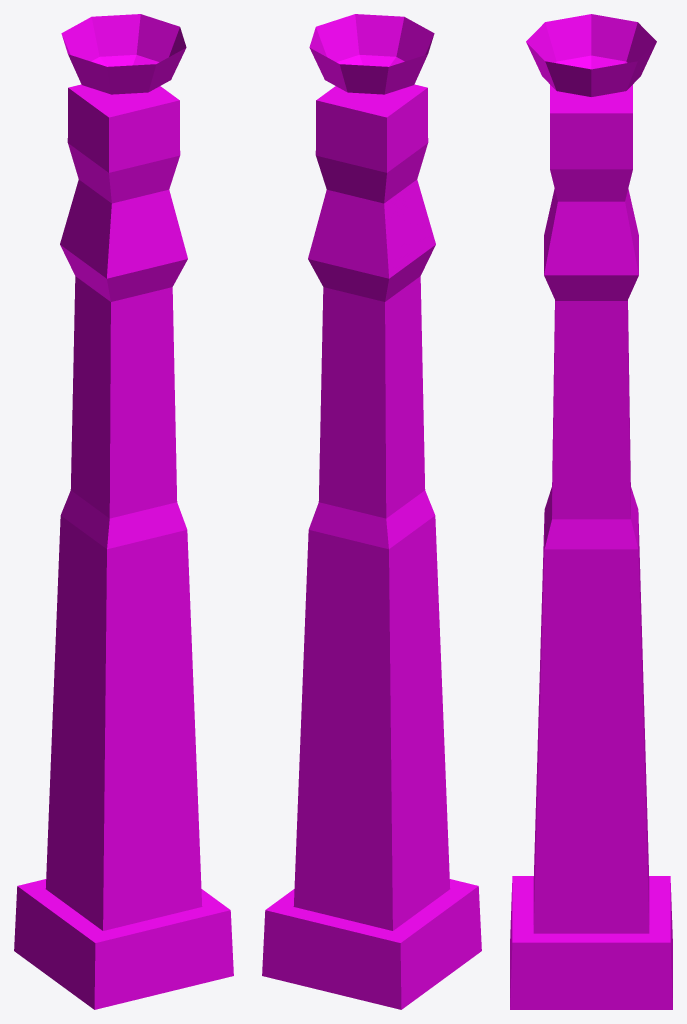
The picture shows the model from 3 angles, left to right: view 1: azimuth 30°, elevation 25°; view 2: azimuth 150°, elevation 25°; view 3: azimuth 270°, elevation 25°; orthographic projection.
Visible parts, largest first — view 1: torchlight_j_01; view 2: torchlight_j_01; view 3: torchlight_j_01.
Part boxes in pixels (x1=…): torchlight_j_01: x1=14, y1=14, x2=233, y2=1009; torchlight_j_01: x1=262, y1=14, x2=481, y2=1009; torchlight_j_01: x1=510, y1=14, x2=672, y2=1009.
Bounding box in the file's own units: 0.00791 × 0.05 × 0.00791.
